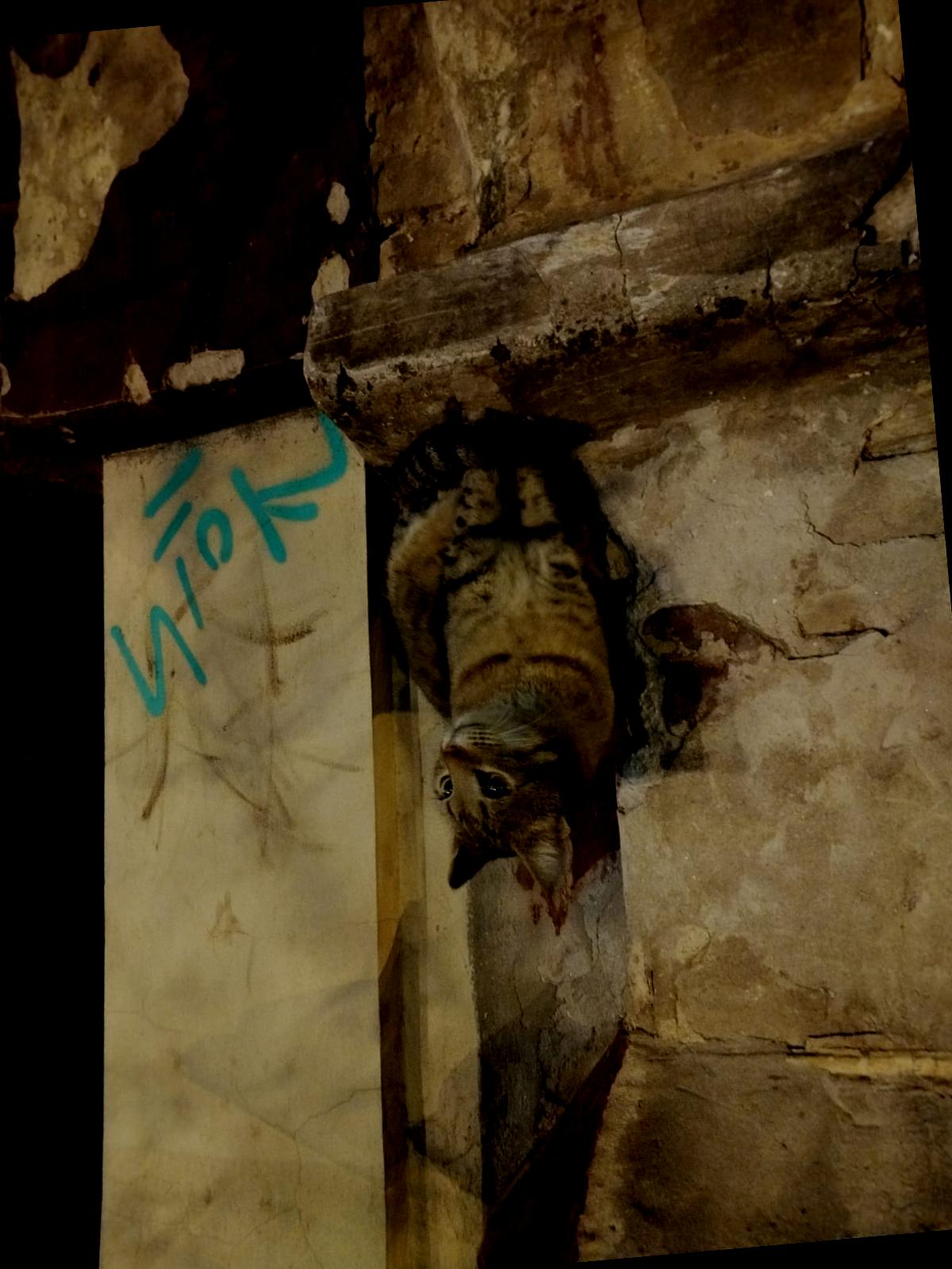macka: (369, 410, 637, 910)
